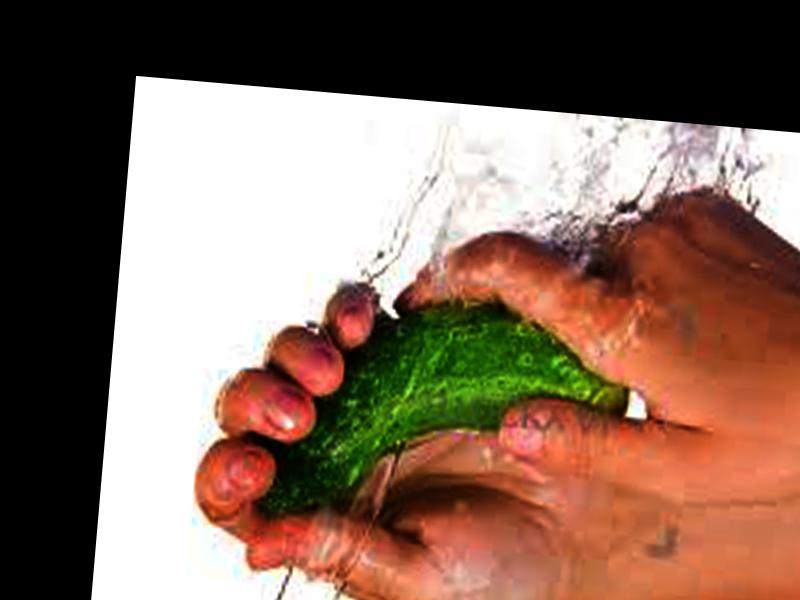Cucumber: (256, 281, 638, 544)
